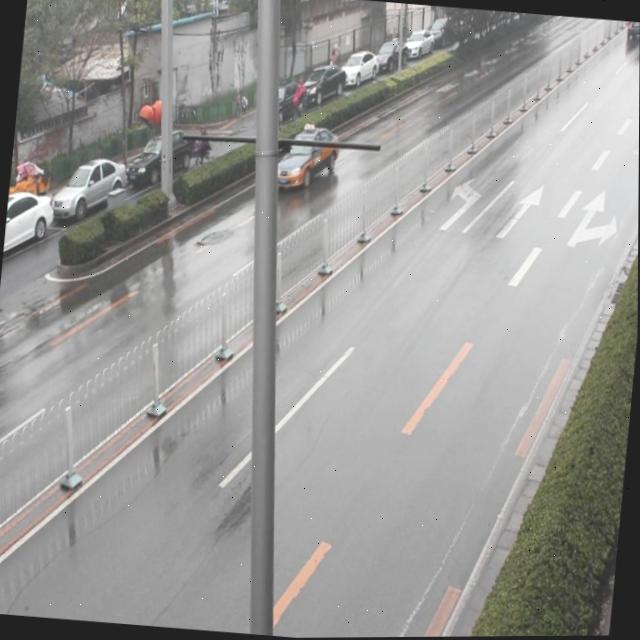car: (269, 115, 341, 197)
